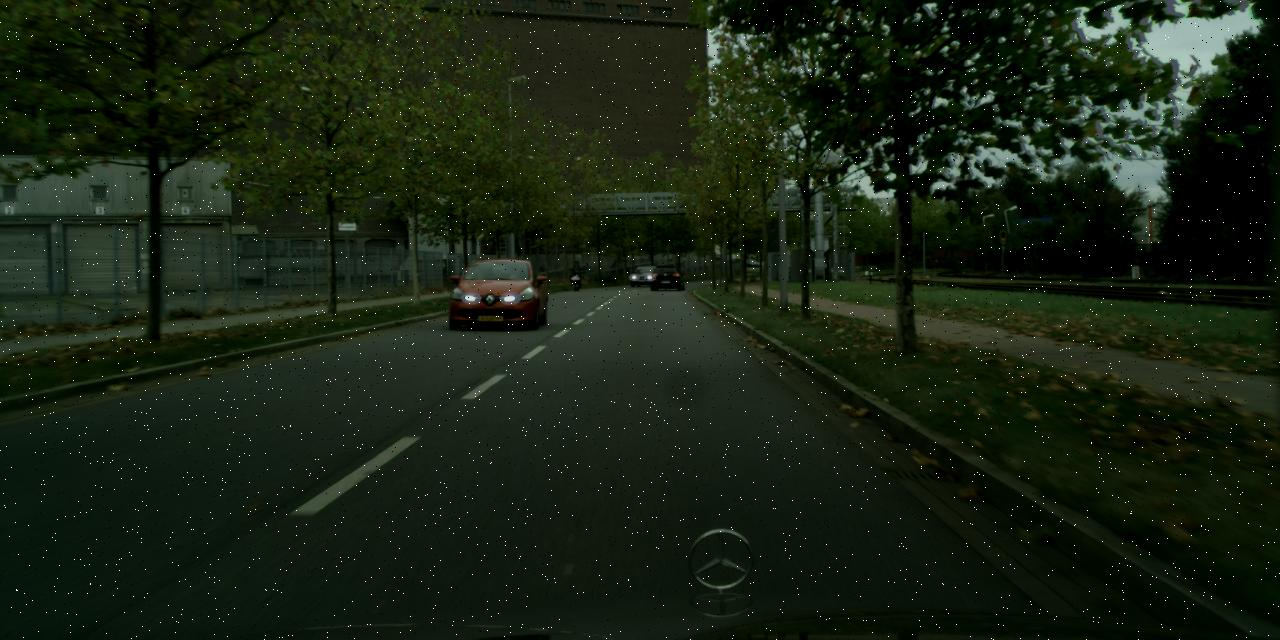ped: (570, 260, 581, 286)
